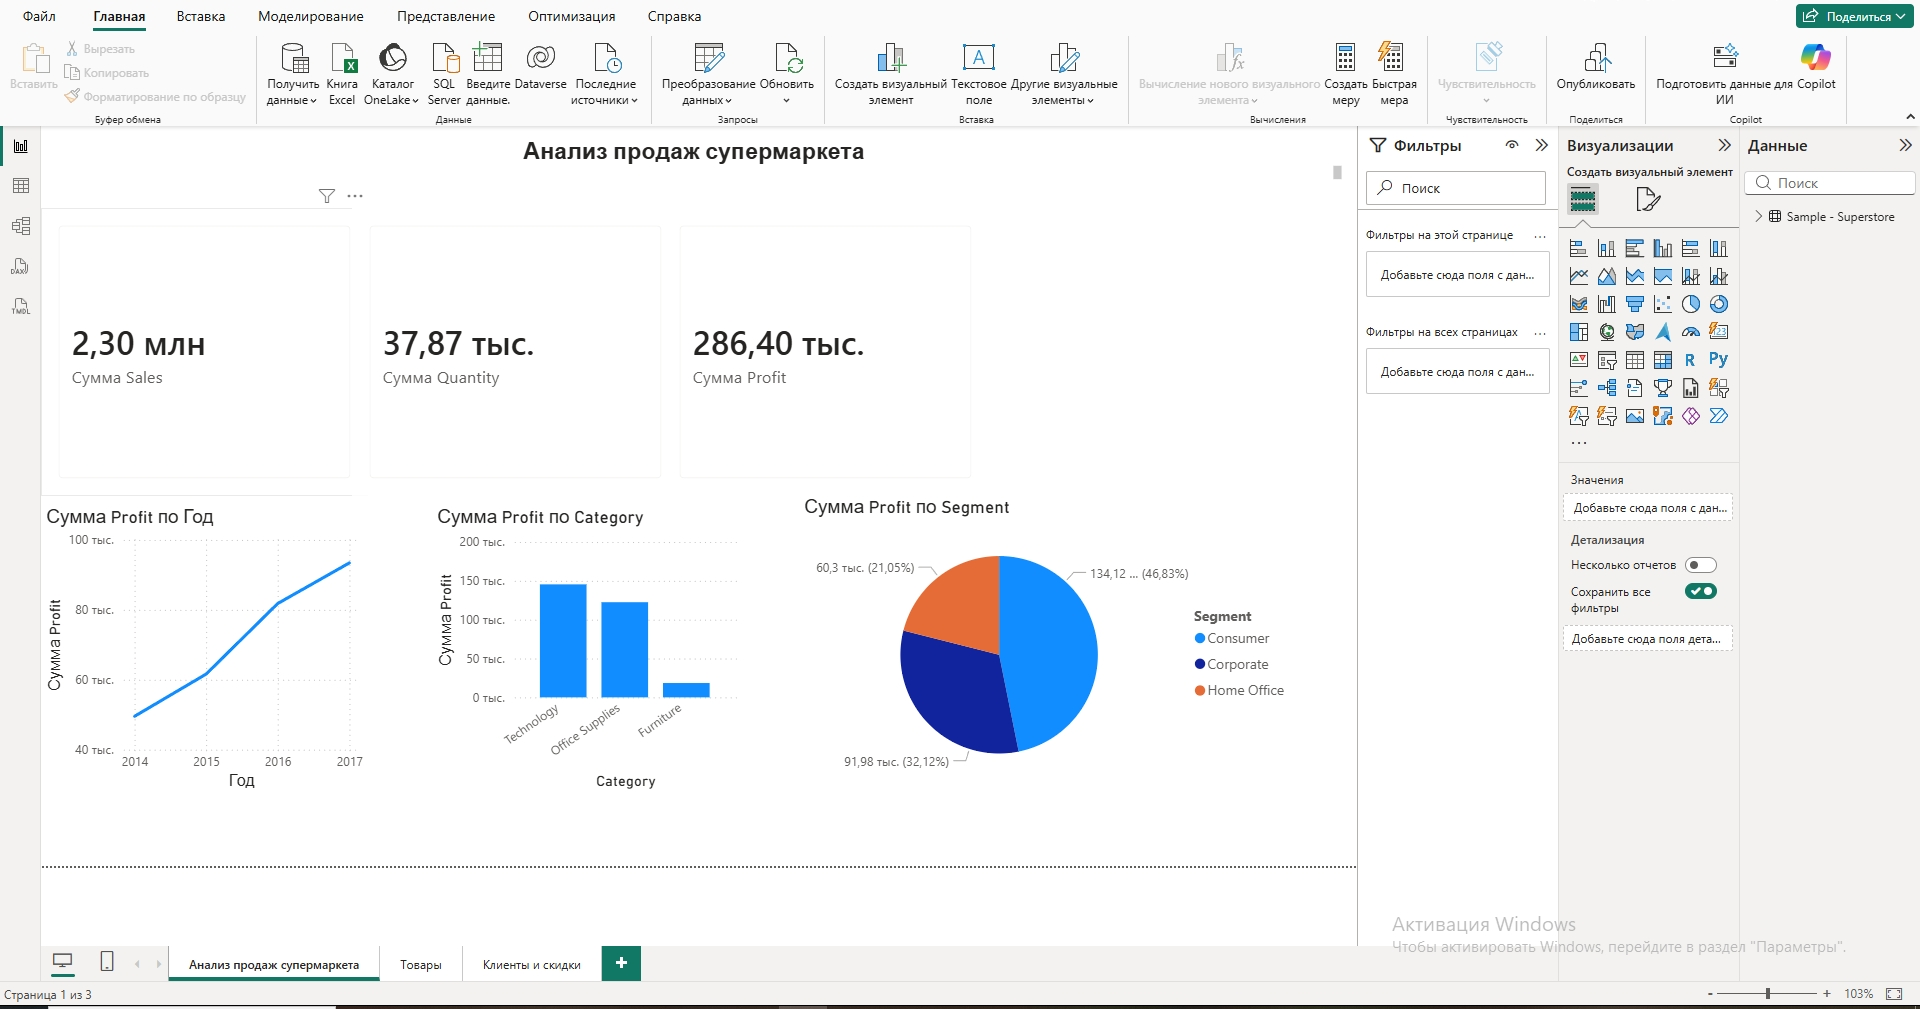

The page's visual inventory and layout, read from the dashboard file:
{"tool":"powerbi","page":{"name":"Анализ продаж супермаркета","canvas":[1280,720],"ordinal":0},"visuals":[{"type":"textbox","title":"          Анализ продаж супермаркета","box":[0,10.5,1270.5,45.7],"z":0},{"type":"cardVisual","fields":{"Data":["Sum(Sample - Superstore.Sales)"]},"box":[0,79.8,318.1,280.1],"z":1},{"type":"cardVisual","fields":{"Data":["Sum(Sample - Superstore.Quantity)"]},"box":[302.5,79.8,318.1,280.1],"z":2},{"type":"cardVisual","fields":{"Data":["Sum(Sample - Superstore.Profit)"]},"box":[604,79.8,318.1,280.1],"z":3},{"type":"lineChart","fields":{"Category":["Sample - Superstore.Order Date.Изменение.Иерархия дат.Год","Sample - Superstore.Order Date.Изменение.Иерархия дат.Квартал","Sample - Superstore.Order Date.Изменение.Иерархия дат.Месяц","Sample - Superstore.Order Date.Изменение.Иерархия дат.День"],"Y":["Sum(Sample - Superstore.Profit)"]},"box":[0,370,318,280],"z":4},{"type":"columnChart","fields":{"Category":["Sample - Superstore.Category"],"Y":["Sum(Sample - Superstore.Profit)"]},"box":[380.3,369.6,301.5,280.1],"z":5},{"type":"pieChart","fields":{"Category":["Sample - Superstore.Segment"],"Y":["Sum(Sample - Superstore.Profit)"]},"box":[737.3,359.9,486.3,289.8],"z":6}]}

Visuals, with their boxes on the page's 1280x720 design canvas (x1, y1, x2, y2). These are canvas units, not pixel positions in the 1920x1009 screenshot, which may show the page scaled, cropped or inside an application window:
"          Анализ продаж супермаркета" textbox: [0,10,1270,56]
cardVisual - Sum(Sample - Superstore.Sales): [0,80,318,360]
cardVisual - Sum(Sample - Superstore.Quantity): [302,80,621,360]
cardVisual - Sum(Sample - Superstore.Profit): [604,80,922,360]
lineChart - Sample - Superstore.Order Date.Изменение.Иерархия дат.Год x Sample - Superstore.Order Date.Изменение.Иерархия дат.Квартал: [0,370,318,650]
columnChart - Sample - Superstore.Category x Sum(Sample - Superstore.Profit): [380,370,682,650]
pieChart - Sample - Superstore.Segment x Sum(Sample - Superstore.Profit): [737,360,1224,650]
